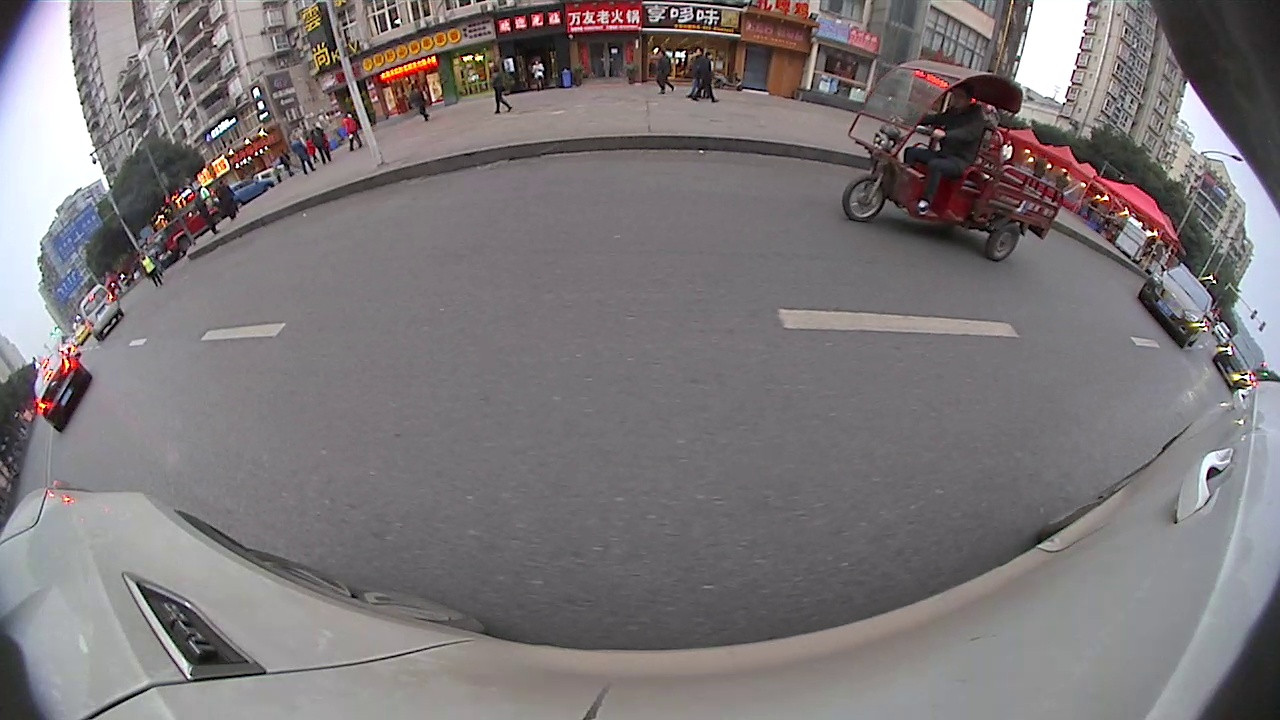car: (1137, 261, 1216, 350), (22, 352, 96, 436), (73, 278, 127, 343), (1210, 334, 1261, 394)
front: (837, 173, 890, 227)
rear: (983, 224, 1019, 265)
rider: (836, 59, 1068, 263)
